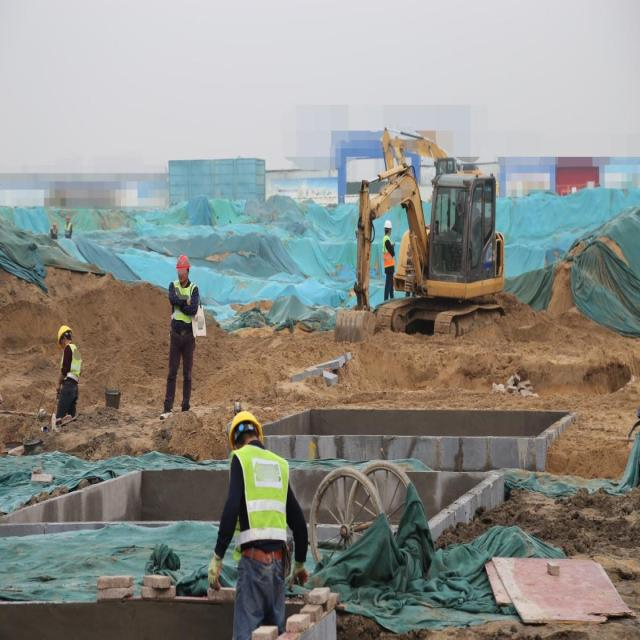excavator: (329, 154, 528, 359)
